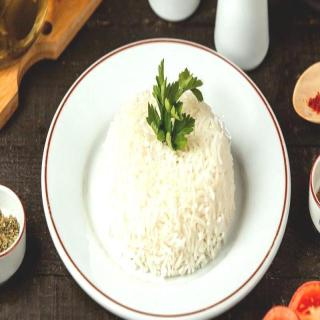Nasi: (94, 86, 238, 280)
